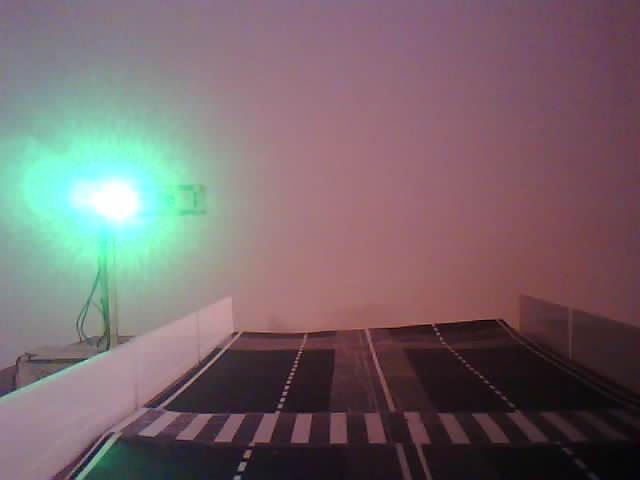crosswalk: (109, 374, 633, 449)
green: (61, 165, 216, 295)
